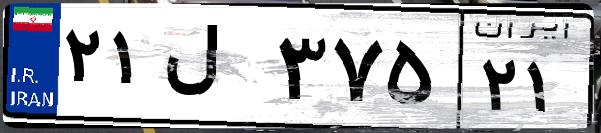1: (525, 38, 570, 115), (110, 28, 158, 98)
2: (57, 26, 110, 100), (475, 38, 525, 113)
3: (270, 28, 330, 110)
5: (385, 28, 445, 110)
7: (330, 28, 385, 110)
ل: (158, 20, 270, 120)
